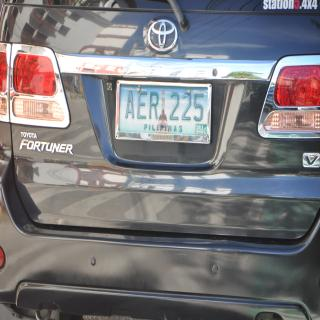license: (117, 81, 212, 144)
